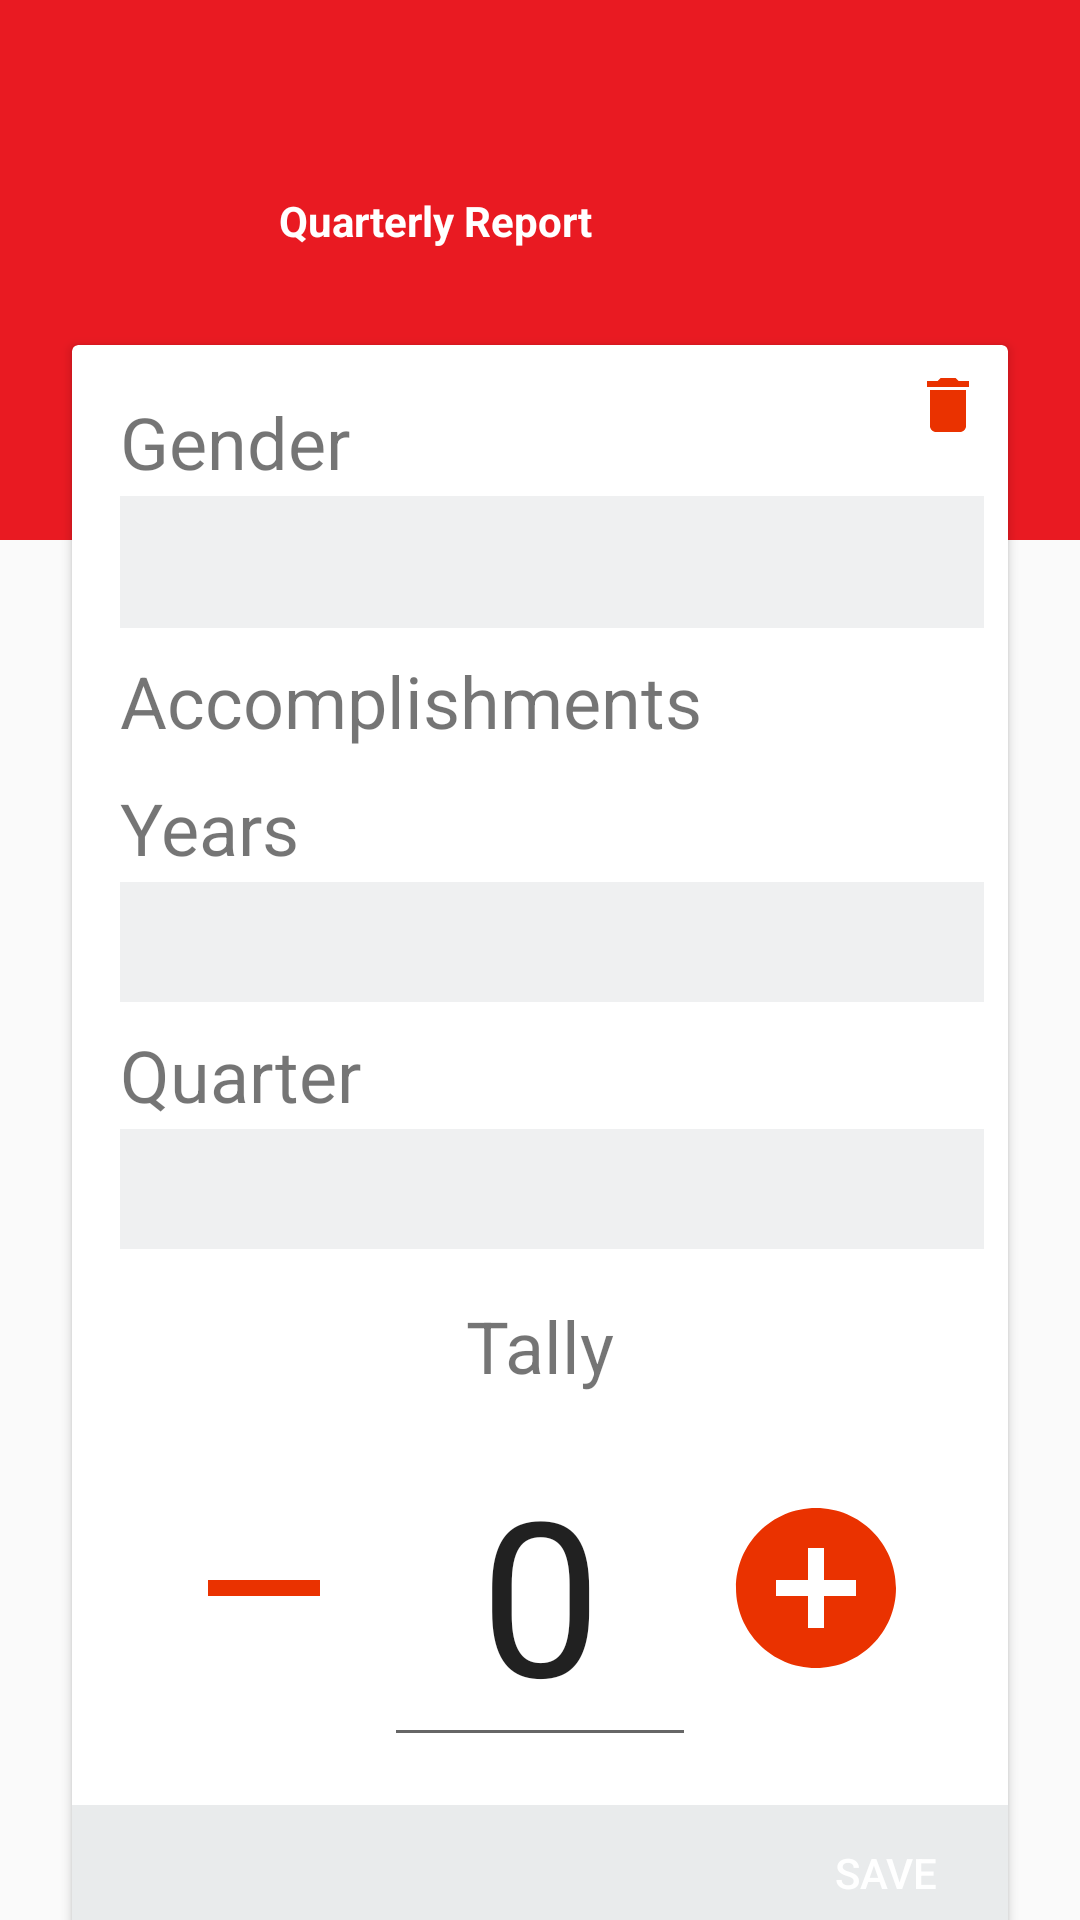

Screen size 1080px×1920px. Icon name, then its center in pixels as point (x, y):
add circle: point (815, 1588)
delete: point (948, 405)
